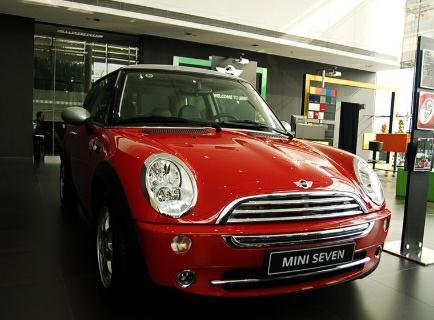MINI: (63, 46, 412, 297)
